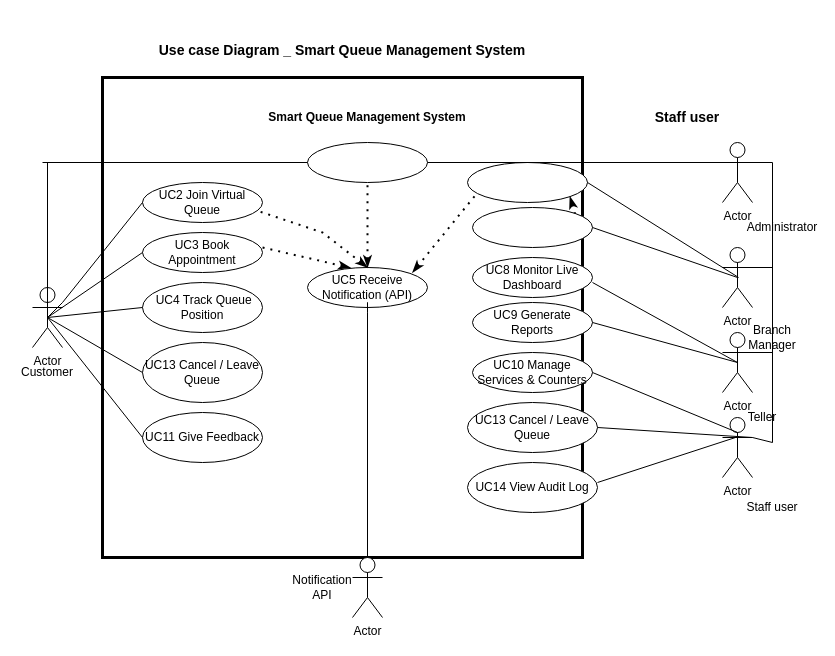
Some shapes in this 835 by 656 pixel diagram are drawn without their labels. Each missing label, with the centre of its shape:
UC1 Register / Login: pixel 367 162
UC6 Call Next Customer: pixel 527 182
UC7 Transfer / Close Ticket: pixel 532 227
